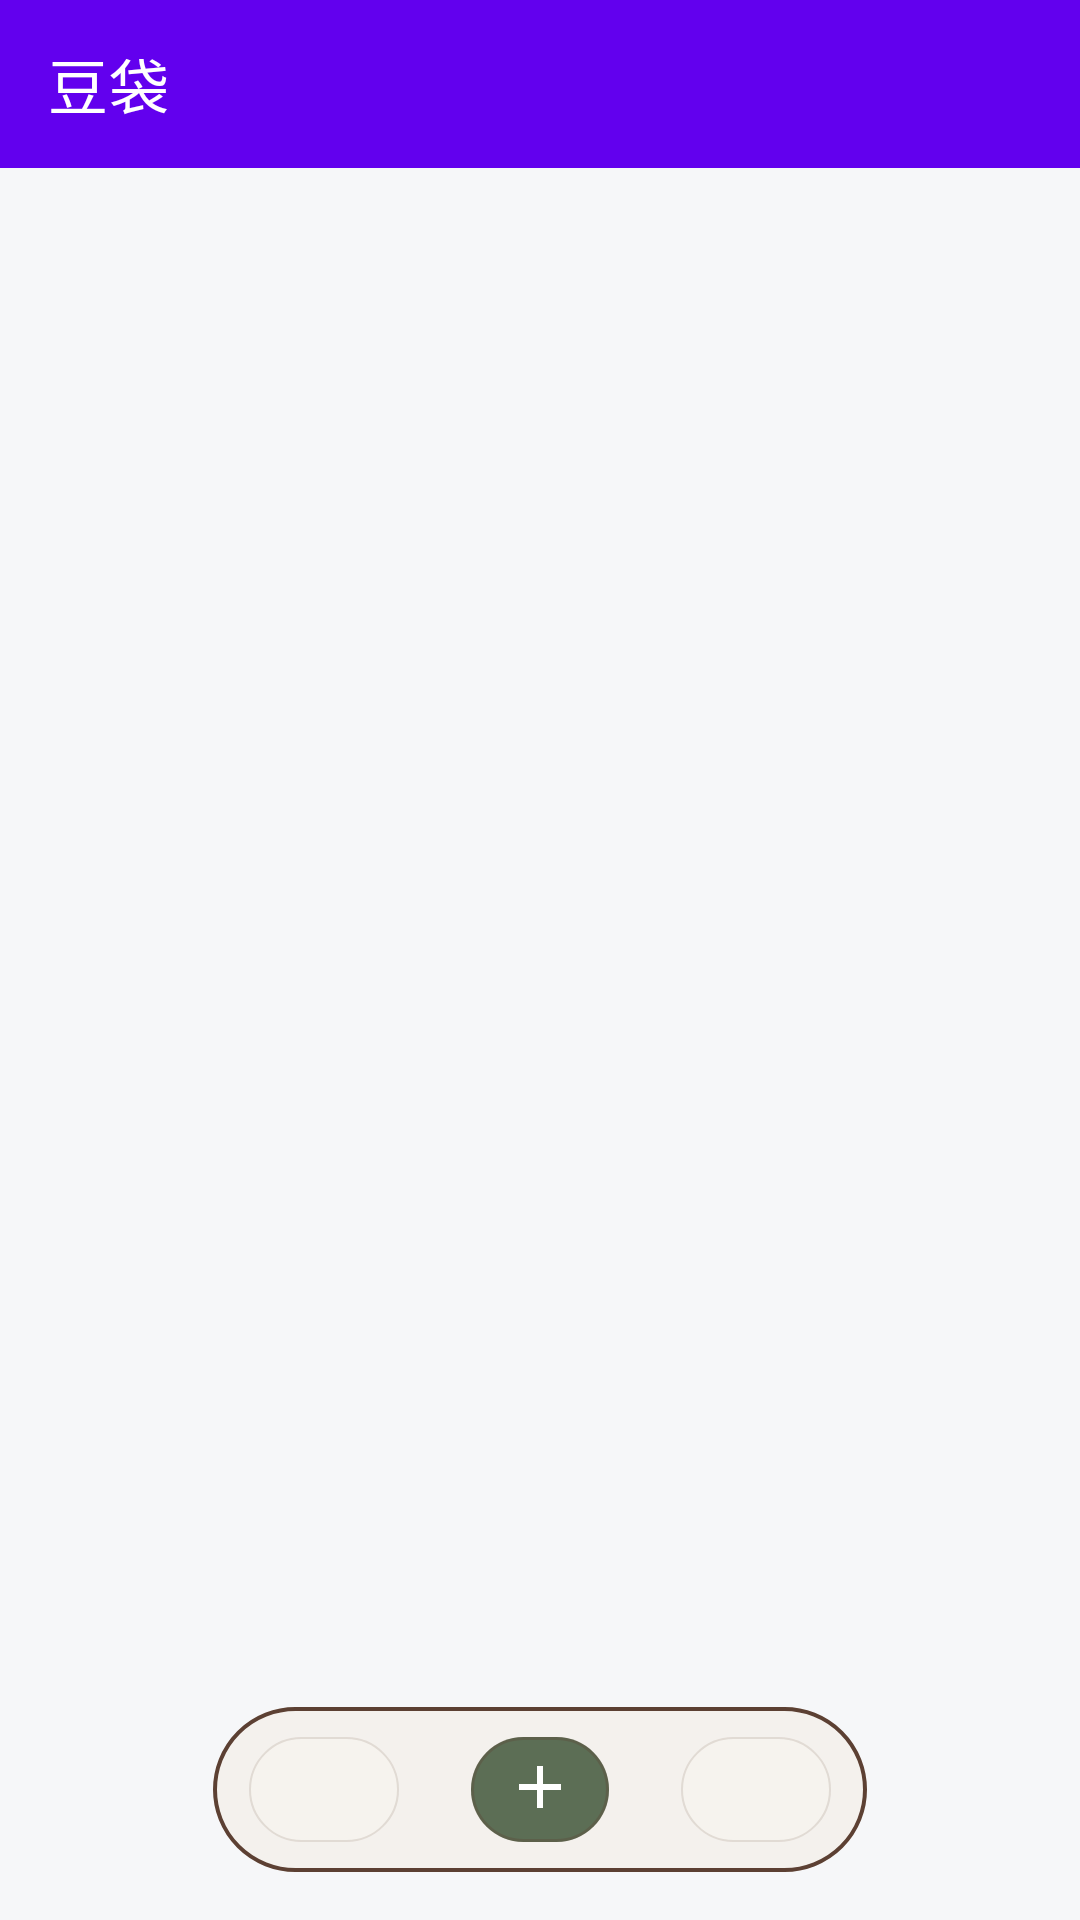

Icons on this 1080w x 1920h Android screen, each with its box as (x1, y1, x2, y2):
添加: (519, 1766, 561, 1808)
